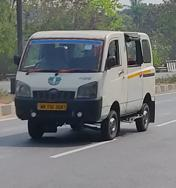Auto: (13, 29, 156, 140)
